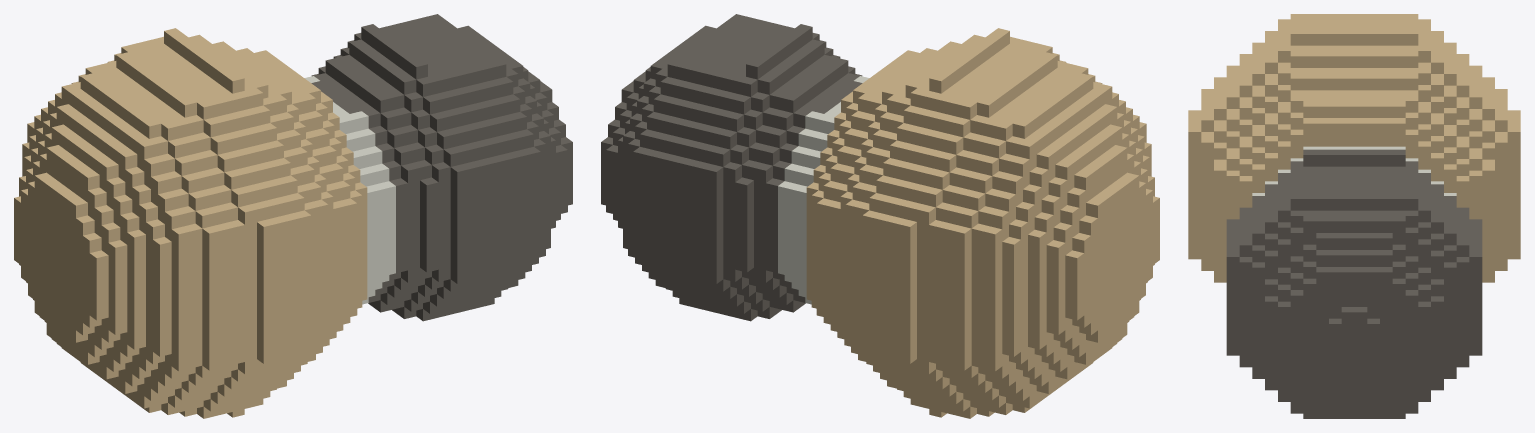
Rendered from owlbear_stone.glb.
The picture shows the model from 3 angles, left to right: view 1: azimuth 30°, elevation 25°; view 2: azimuth 150°, elevation 25°; view 3: azimuth 270°, elevation 25°; orthographic projection. The views are drawn at different scales.
Parts seen in each view (by area): view 1: owlbear_stone:compound; view 2: owlbear_stone:compound; view 3: owlbear_stone:compound.
Boxes of the visible parts, bbox=[...] form: owlbear_stone:compound: bbox=[14, 14, 572, 418]; owlbear_stone:compound: bbox=[601, 14, 1159, 418]; owlbear_stone:compound: bbox=[1188, 14, 1520, 418].
Size of the model in its own units: 0.164 by 0.108 by 0.104.
